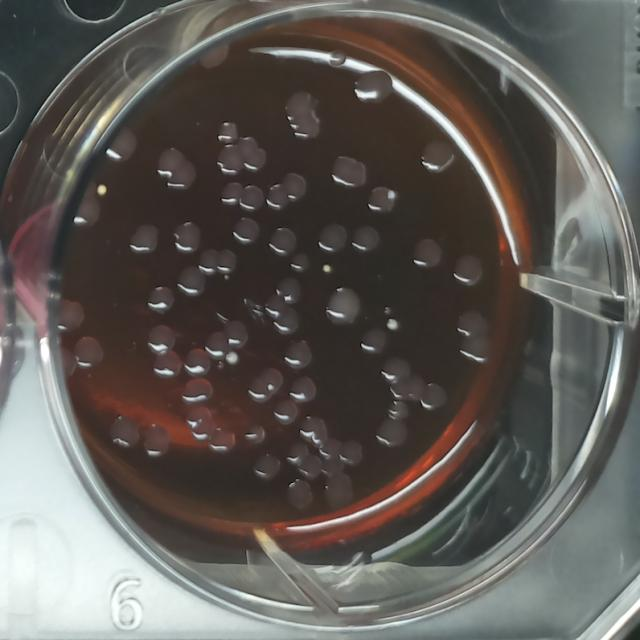Bacillus: (323, 283, 363, 330)
Staphylococcus: (224, 348, 240, 368), (384, 316, 401, 334), (94, 182, 110, 199), (320, 262, 332, 276), (266, 382, 275, 393)
